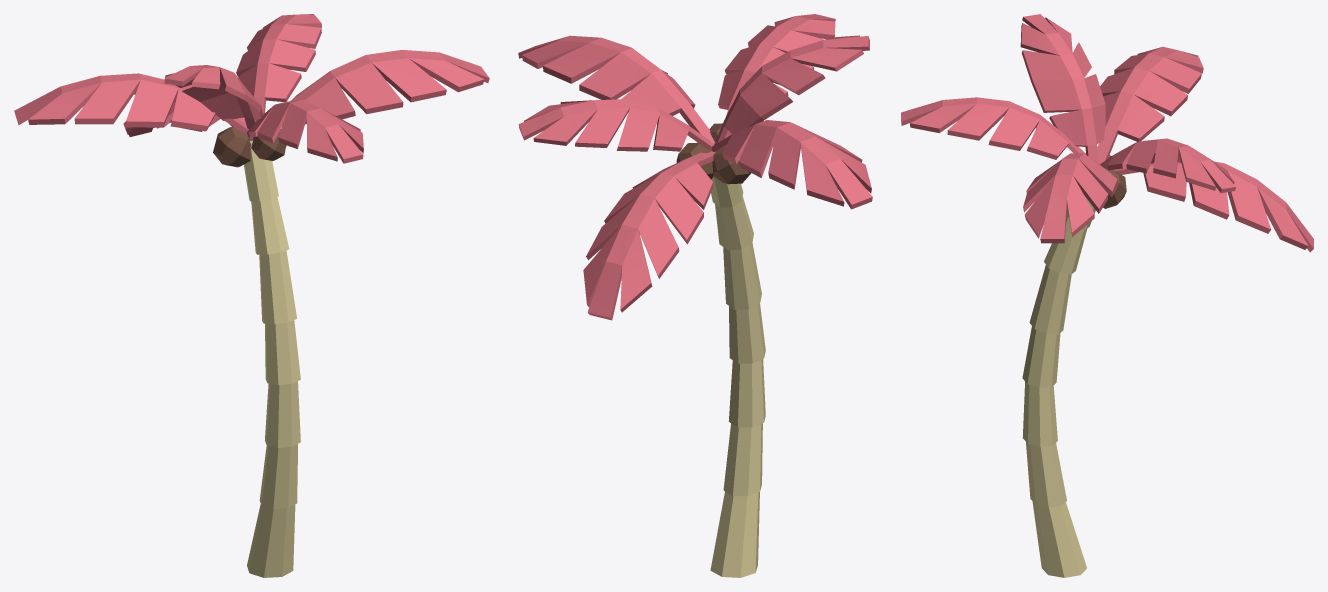
File: Palm tree Pink.glb
3 views of the same model, side by side, from view 1: azimuth 30°, elevation 25°; view 2: azimuth 150°, elevation 25°; view 3: azimuth 270°, elevation 25° (orthographic). The views are drawn at different scales.
Visible parts, largest first — view 1: palm_tree_01; view 2: palm_tree_01; view 3: palm_tree_01.
Boxes of the visible parts, box(x1,y1,x2,y2) form: palm_tree_01: box(14, 14, 489, 577); palm_tree_01: box(518, 14, 872, 577); palm_tree_01: box(901, 14, 1313, 577).
Size of the model in its own units: 160 by 200 by 149.
